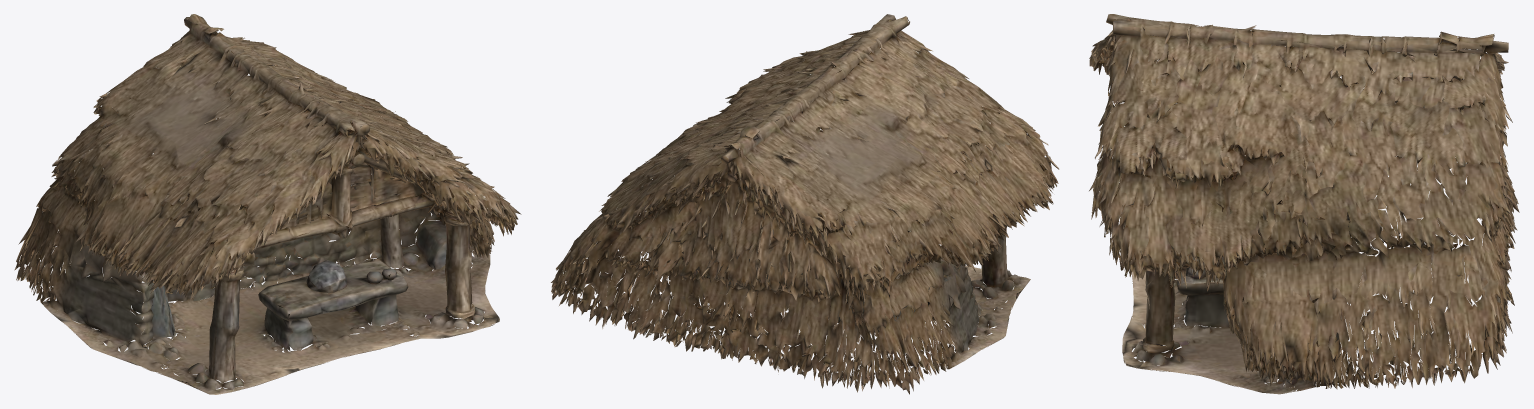
The model's file is mason_mid.glb.
3 views of the same model, side by side, from view 1: azimuth 30°, elevation 25°; view 2: azimuth 150°, elevation 25°; view 3: azimuth 270°, elevation 25° (orthographic). The views are drawn at different scales.
Parts seen in each view (by area): view 1: model; view 2: model; view 3: model.
Part boxes in pixels (left/top/right/bottom): model: left=14, top=14, right=521, bottom=394; model: left=551, top=14, right=1059, bottom=394; model: left=1089, top=14, right=1519, bottom=394.
Size of the model in its own units: 0.9934 by 0.5782 by 0.826.
1 material, 1 textured.
